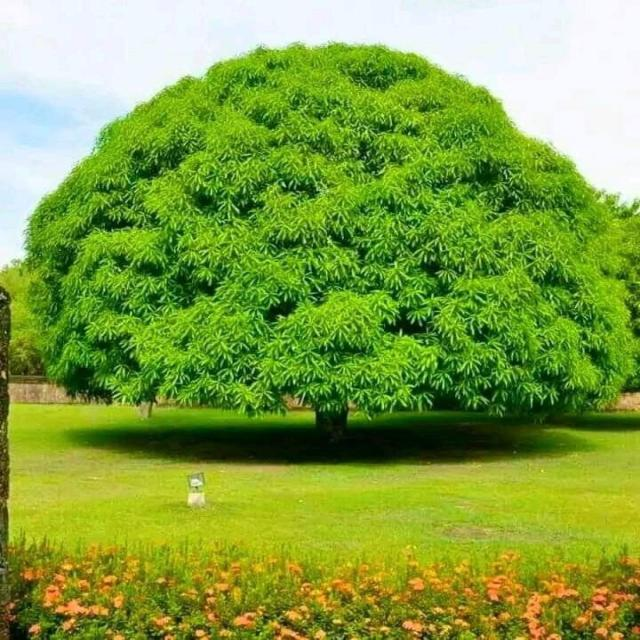Mango-Tree: (41, 48, 627, 440)
